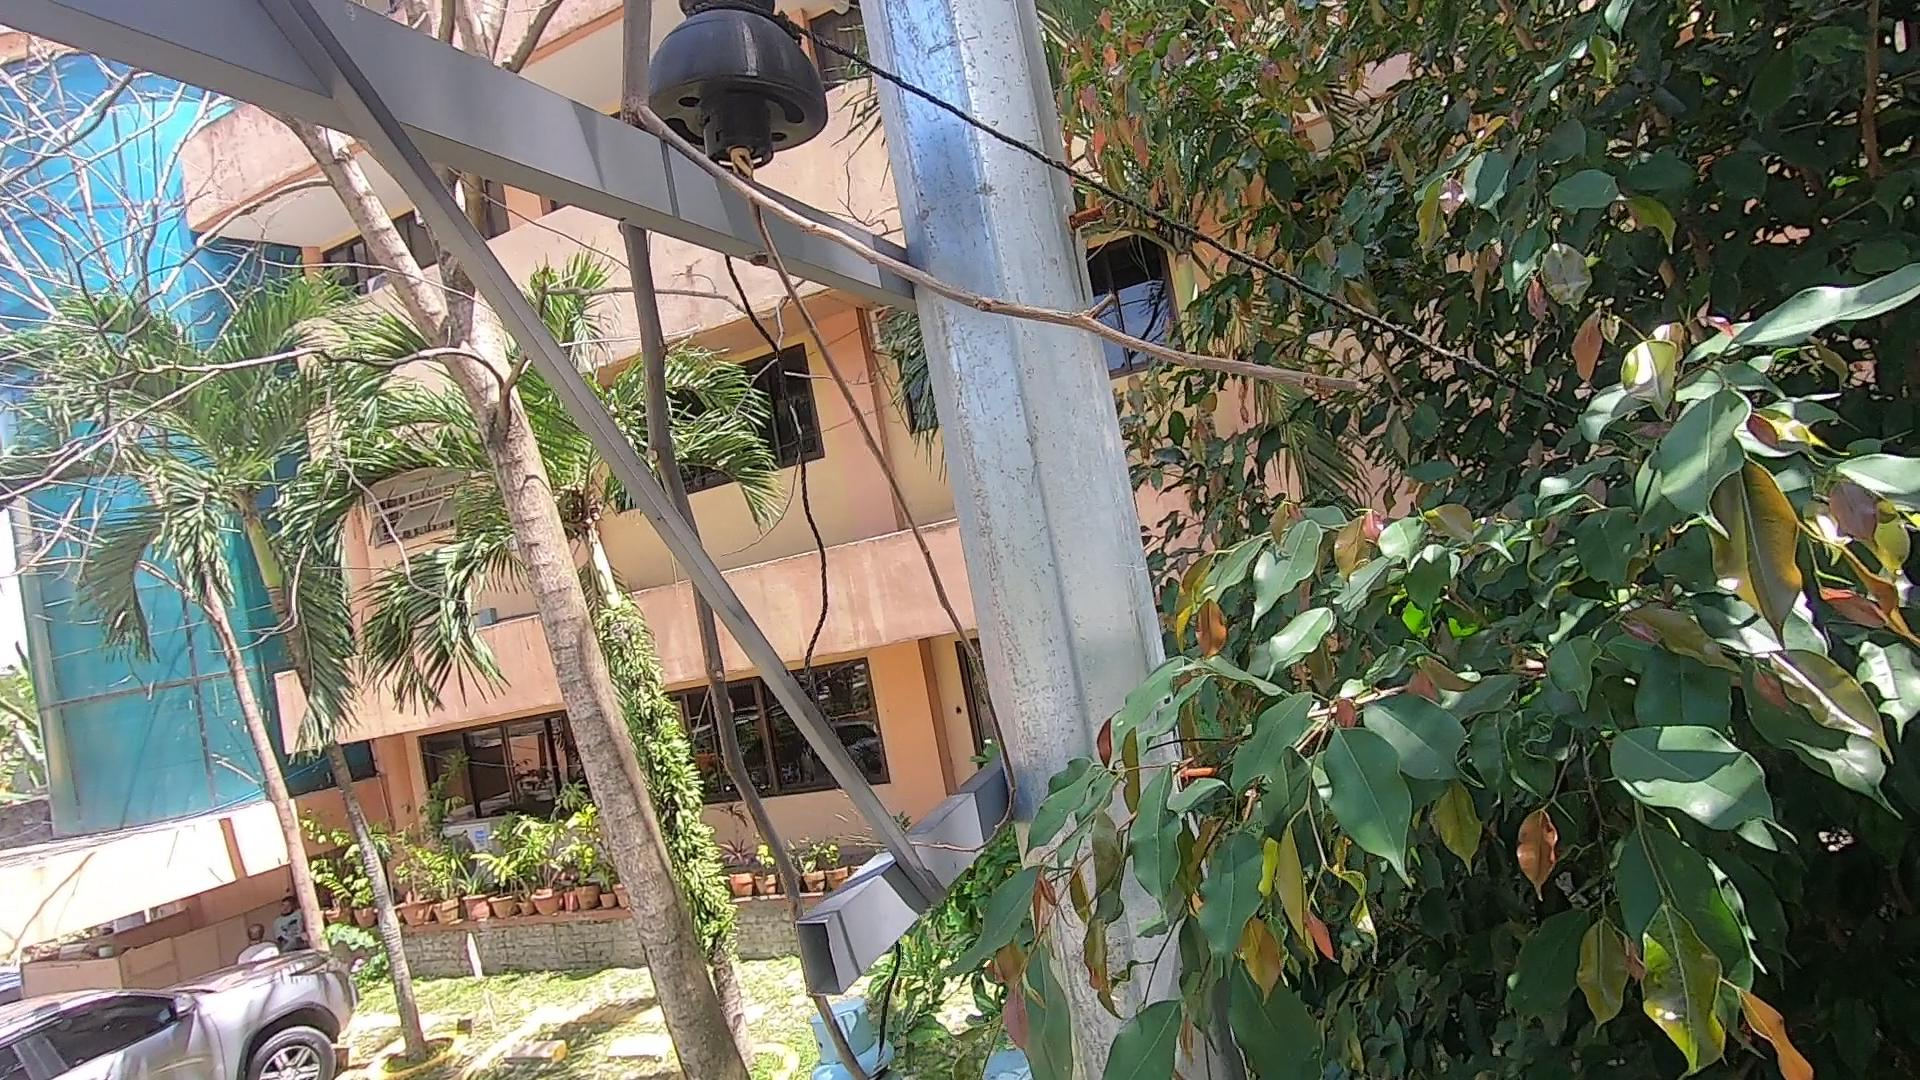branch with leaves: (927, 910, 1184, 1080)
tree branch: (535, 3, 1346, 1080)
